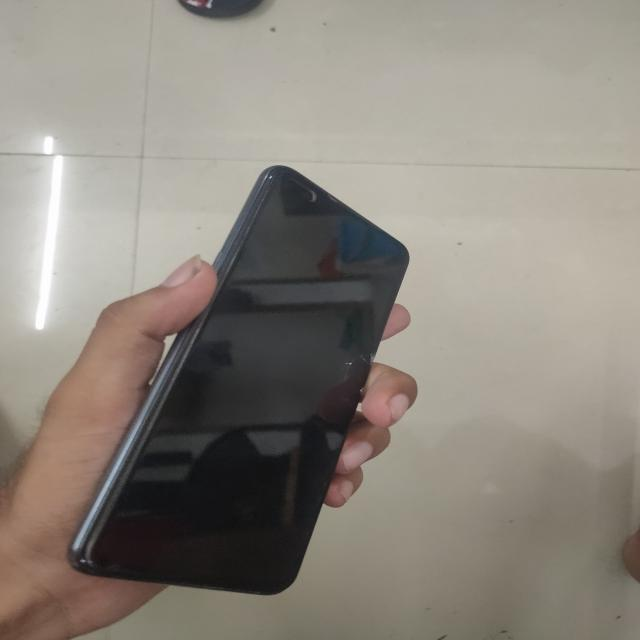Phone: (62, 163, 412, 601)
